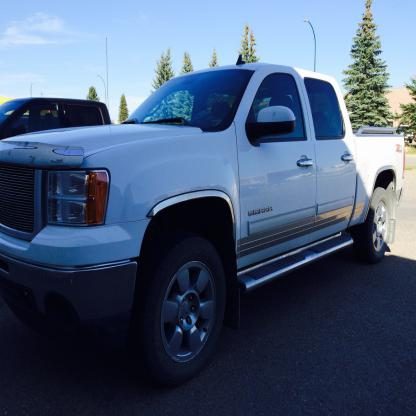Truck: (0, 54, 406, 386)
